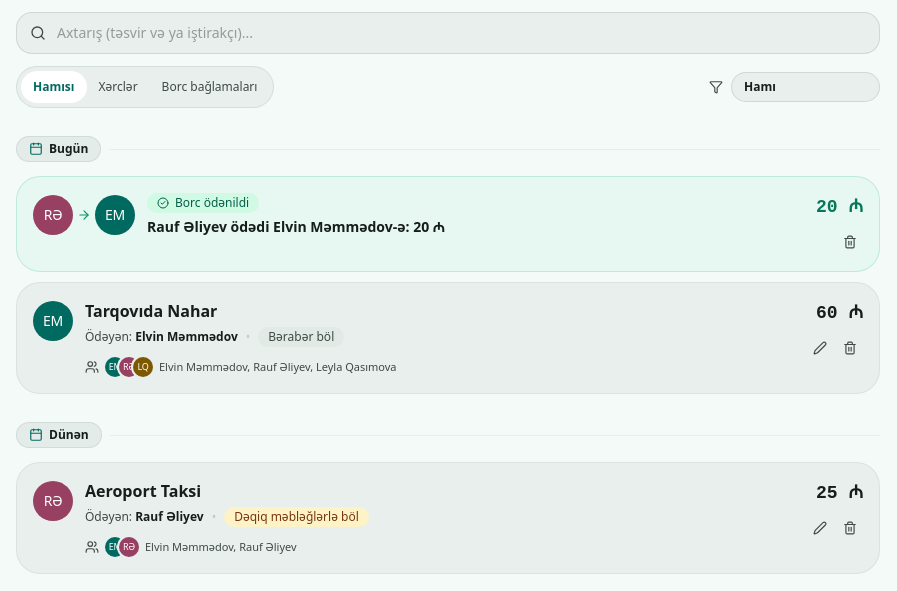
Scenario: Task 7: Expense Management, Split Calculator & History Tab › HistoryTab Component › filters feed by search query matching title or participant name
The image size is (897, 591).
# Search by title "Taksi"
Type "Taksi" into the search field at (448, 33), box 16,12 -> 880,54
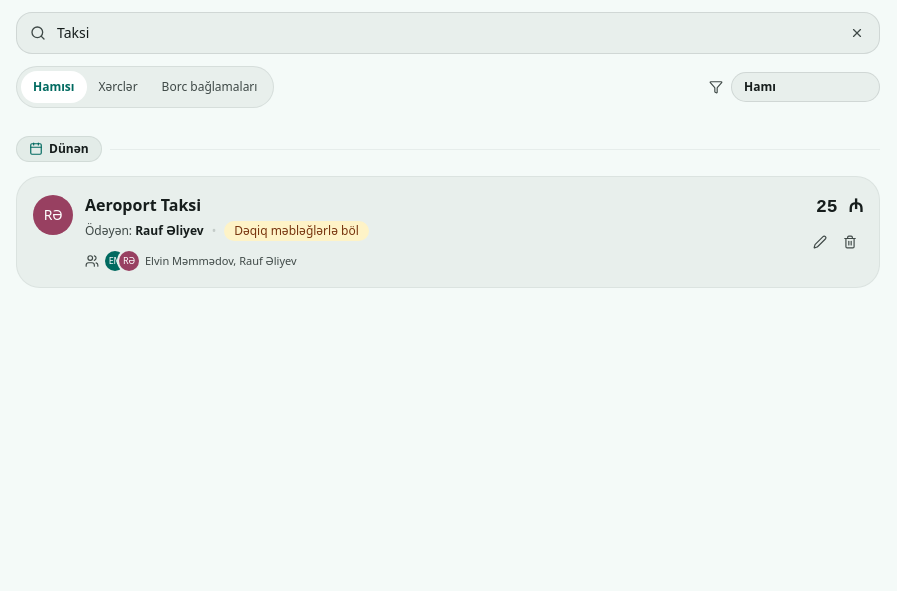
Expected: the heading "Aeroport Taksi" is shown, 85,194 -> 201,216
Expected: the heading "Tarqovıda Nahar" is gone
# Search by participant name "Leyla" (who only participated in Nahar)
Replace the text in the search field with "Leyla" at (448, 33), box 16,12 -> 880,54
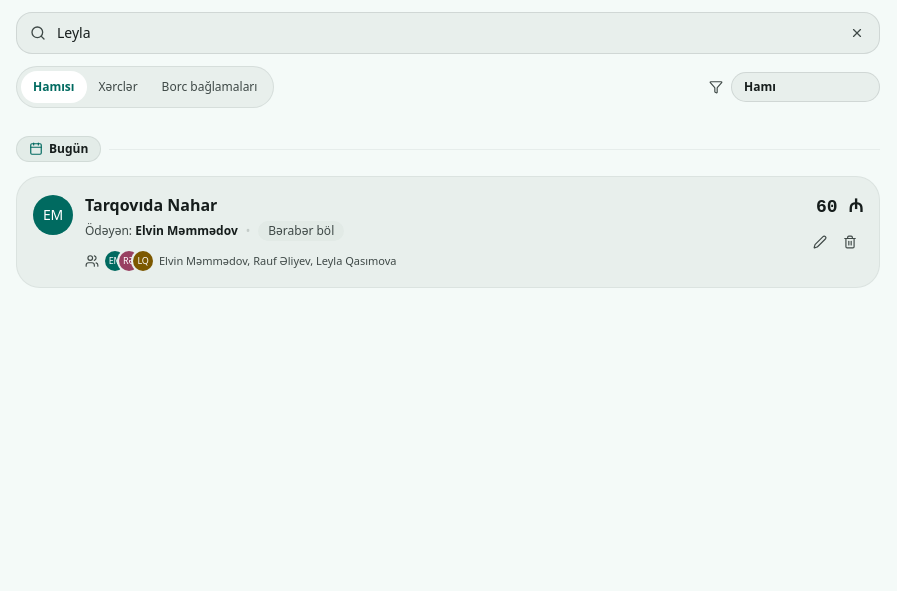
Expected: the heading "Tarqovıda Nahar" is shown, 85,194 -> 217,216
Expected: the heading "Aeroport Taksi" is gone
Replace the text in the search field with "Nonexistent Transaction" at (448, 33), box 16,12 -> 880,54
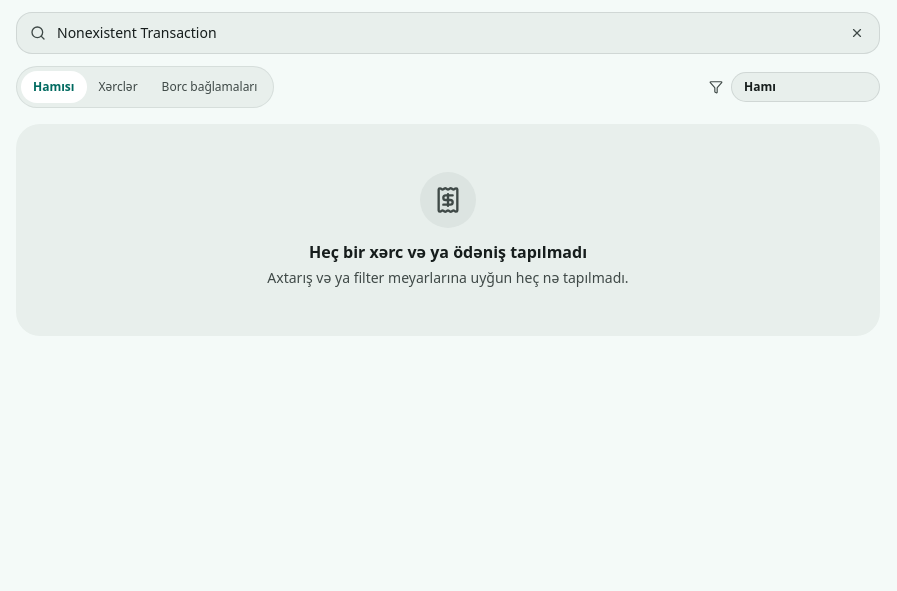
Expected: the heading "Heç bir xərc və ya ödəniş tapılmadı" is shown, 309,241 -> 587,263
# Clear search
Click the button named "Clear search" at (857, 33), box 846,22 -> 868,44
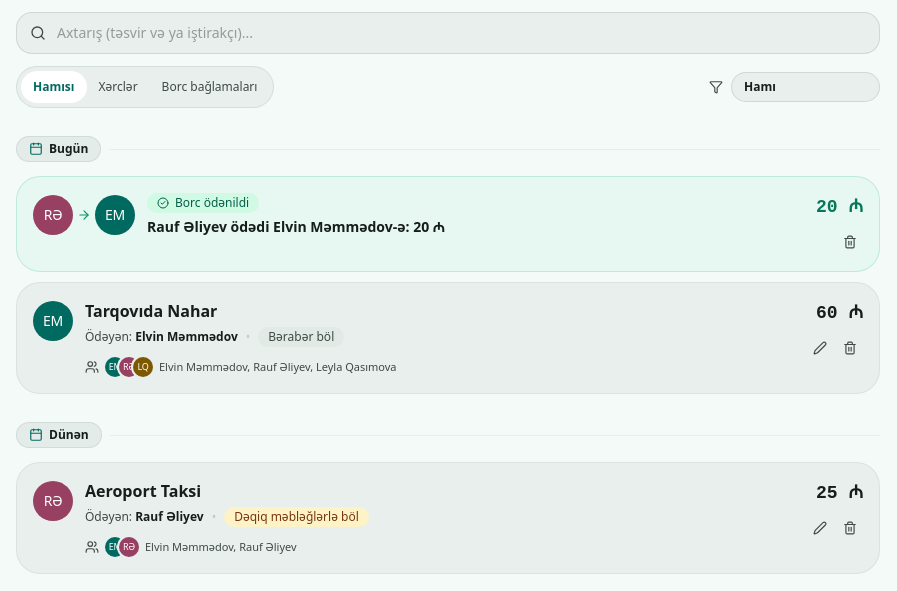
Expected: the heading "Tarqovıda Nahar" is shown, 85,300 -> 217,322
